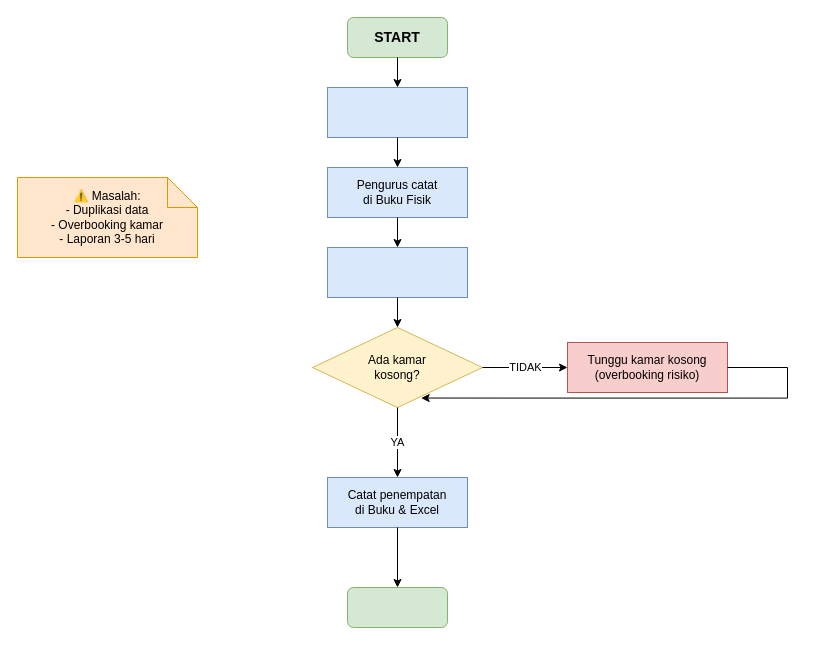
Some shapes in this 813 by 645 pixel diagram are drawn without their labels. The shapes that lost their labels are listed below. From the top down, each one's centre as x and y in pixels, then its label:
At point (397, 112): "Penghuni datang membawa dokumen".
At point (397, 272): "Pengurus ketik ulang ke Excel".
At point (397, 607): "END".
